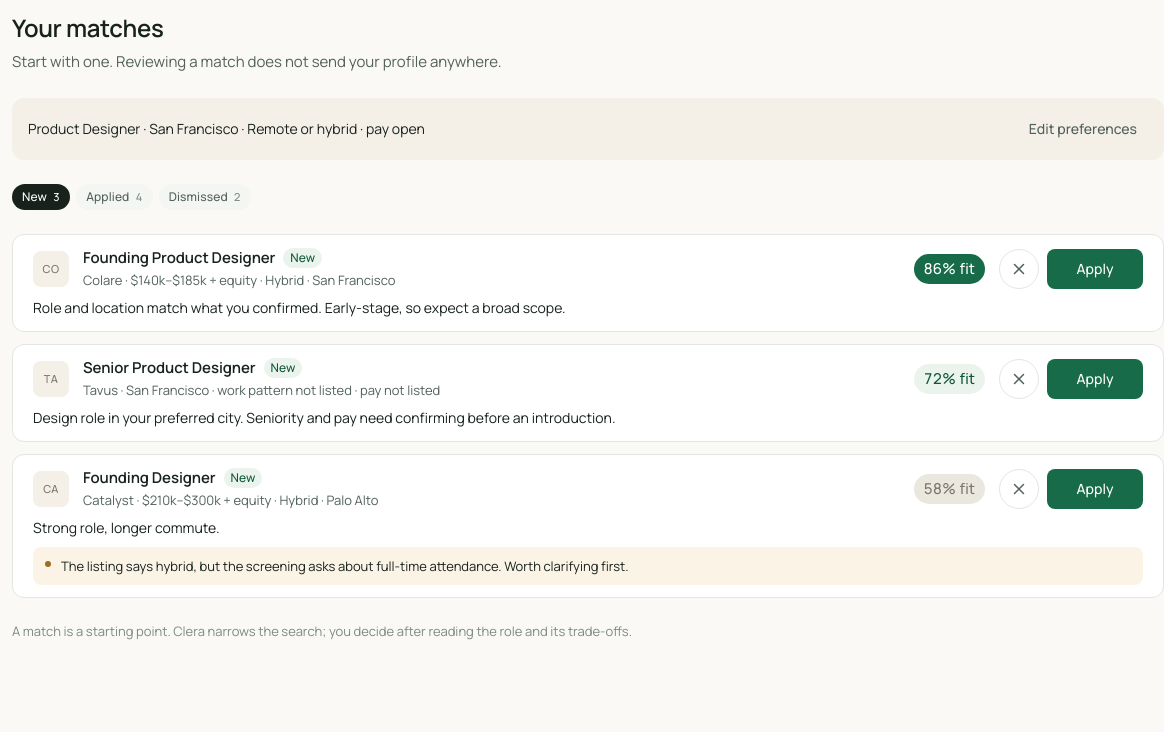
Test case: B1 · Apply from the card › flips to questions when the role needs answers Clera does not have
Step 1. Click the button with aria-label "Apply: Founding Designer at Catalyst" → point(1095, 488), box left=1047, top=468, right=1143, bottom=508
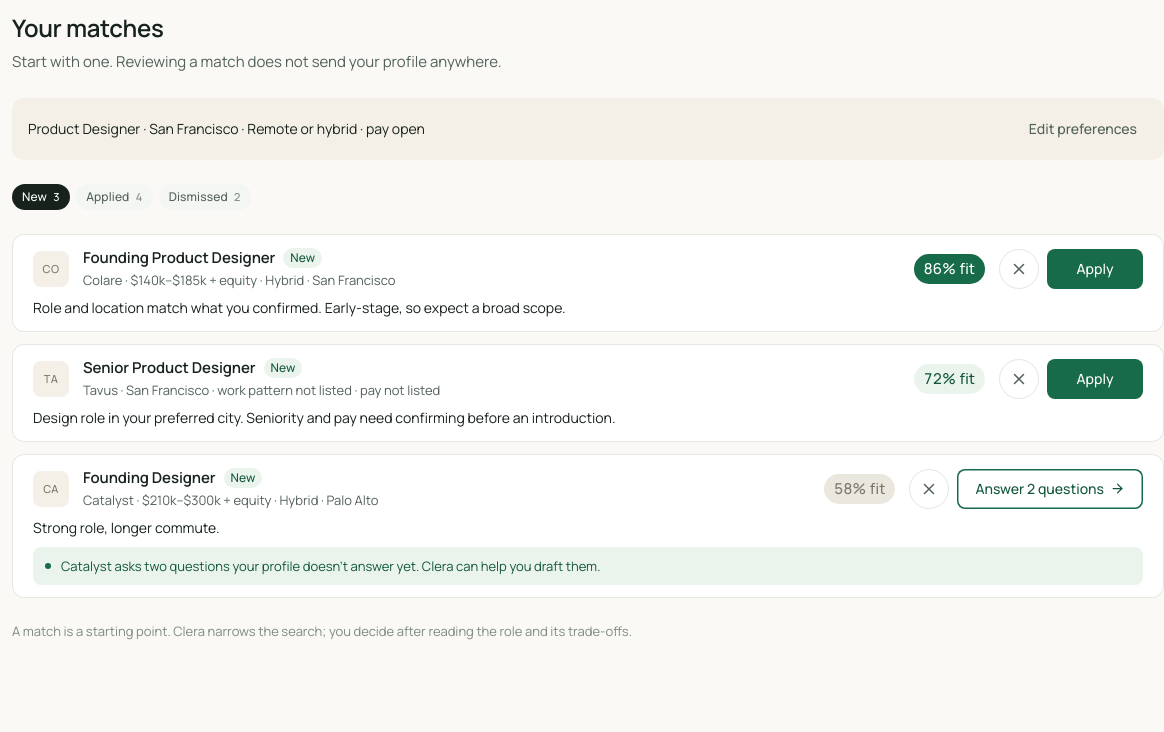
Expected: the button with aria-label "Answer 2 questions: Founding Designer at Catalyst" is enabled, left=957, top=468, right=1143, bottom=508
Expected: the text "asks two questions your profile doesn’t answer yet" is shown, left=61, top=557, right=600, bottom=575
